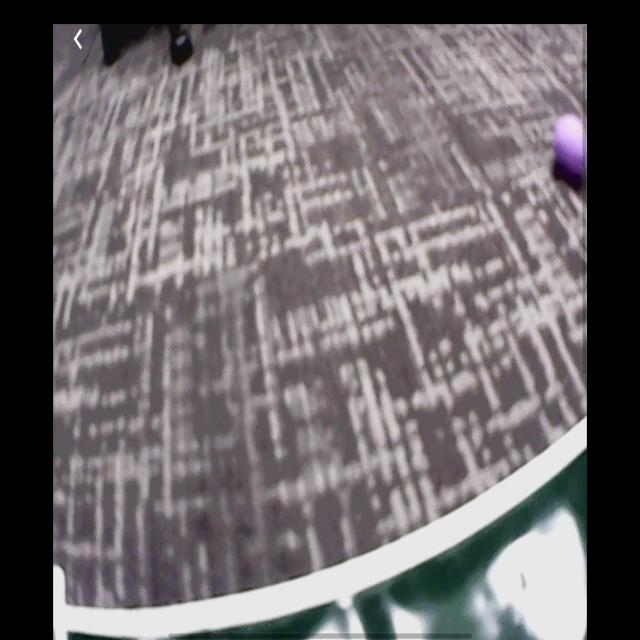ball: (552, 114, 588, 180)
